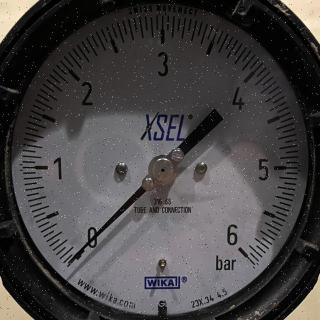gauge: (0, 0, 320, 320), (70, 226, 106, 262), (146, 153, 178, 187), (226, 231, 252, 265), (64, 248, 82, 268)
